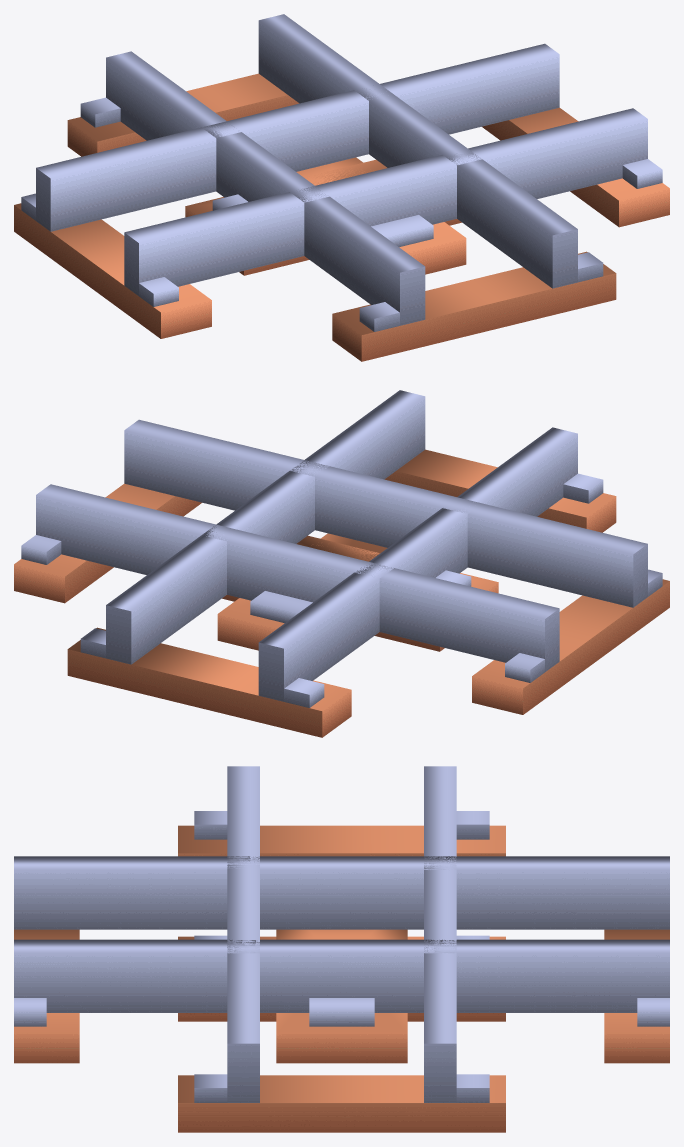
The model's file is cross4.glb.
The picture shows the model from 3 angles, top to bottom: view 1: azimuth 30°, elevation 25°; view 2: azimuth 150°, elevation 25°; view 3: azimuth 270°, elevation 25°; orthographic projection. The views are drawn at different scales.
Parts seen in each view (by area): view 1: cross4; view 2: cross4; view 3: cross4.
Part boxes in pixels (left/top/right/bottom): cross4: left=14, top=14, right=669, bottom=361; cross4: left=14, top=390, right=669, bottom=737; cross4: left=14, top=766, right=669, bottom=1132.
Size of the model in its own units: 1 by 0.15 by 1.
Materials: 2 (2 with a texture image).
